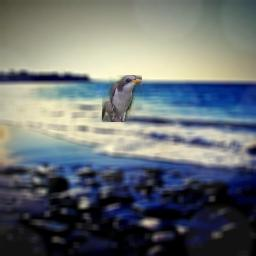Cuckoo: (102, 75, 142, 122)
